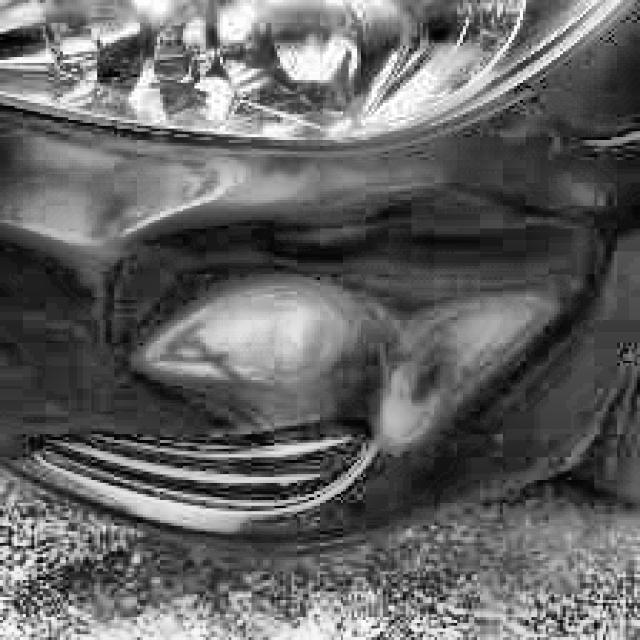bumper_dent: (106, 190, 584, 434)
